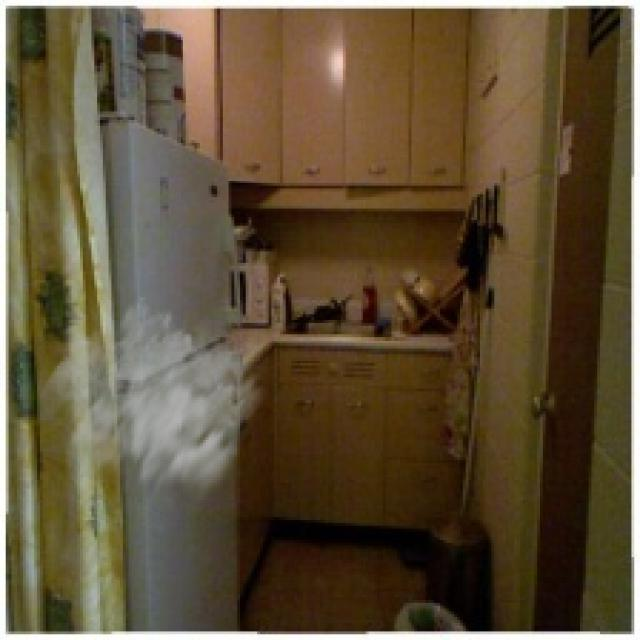Smoke: (34, 294, 274, 532)
